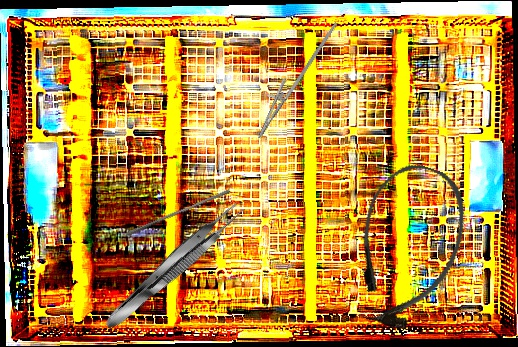Cannula: (334, 153, 481, 340)
Needle Holder: (247, 9, 339, 147)
Pusher: (124, 185, 232, 241)
Tissue Forceps: (98, 196, 249, 336)
